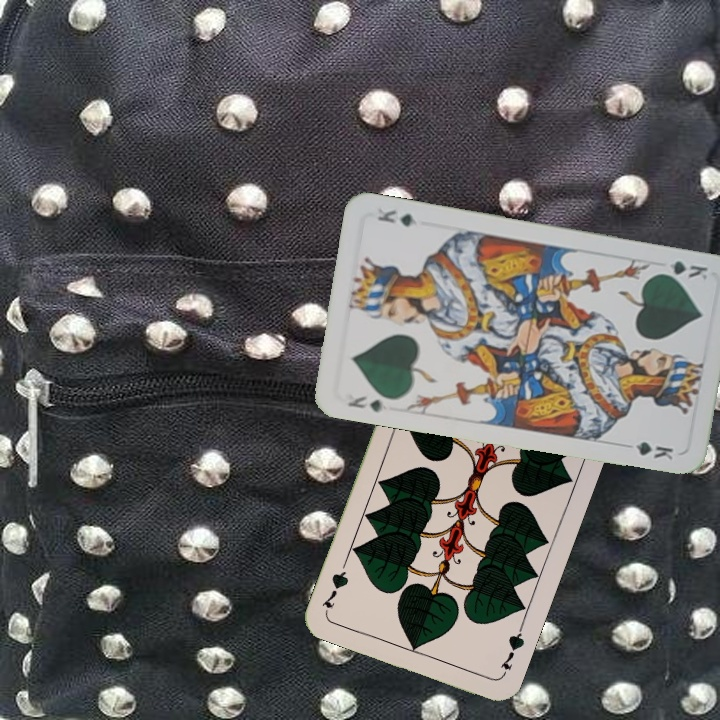G7: (496, 622, 528, 679)
GK: (653, 257, 711, 283), (343, 391, 384, 415)
